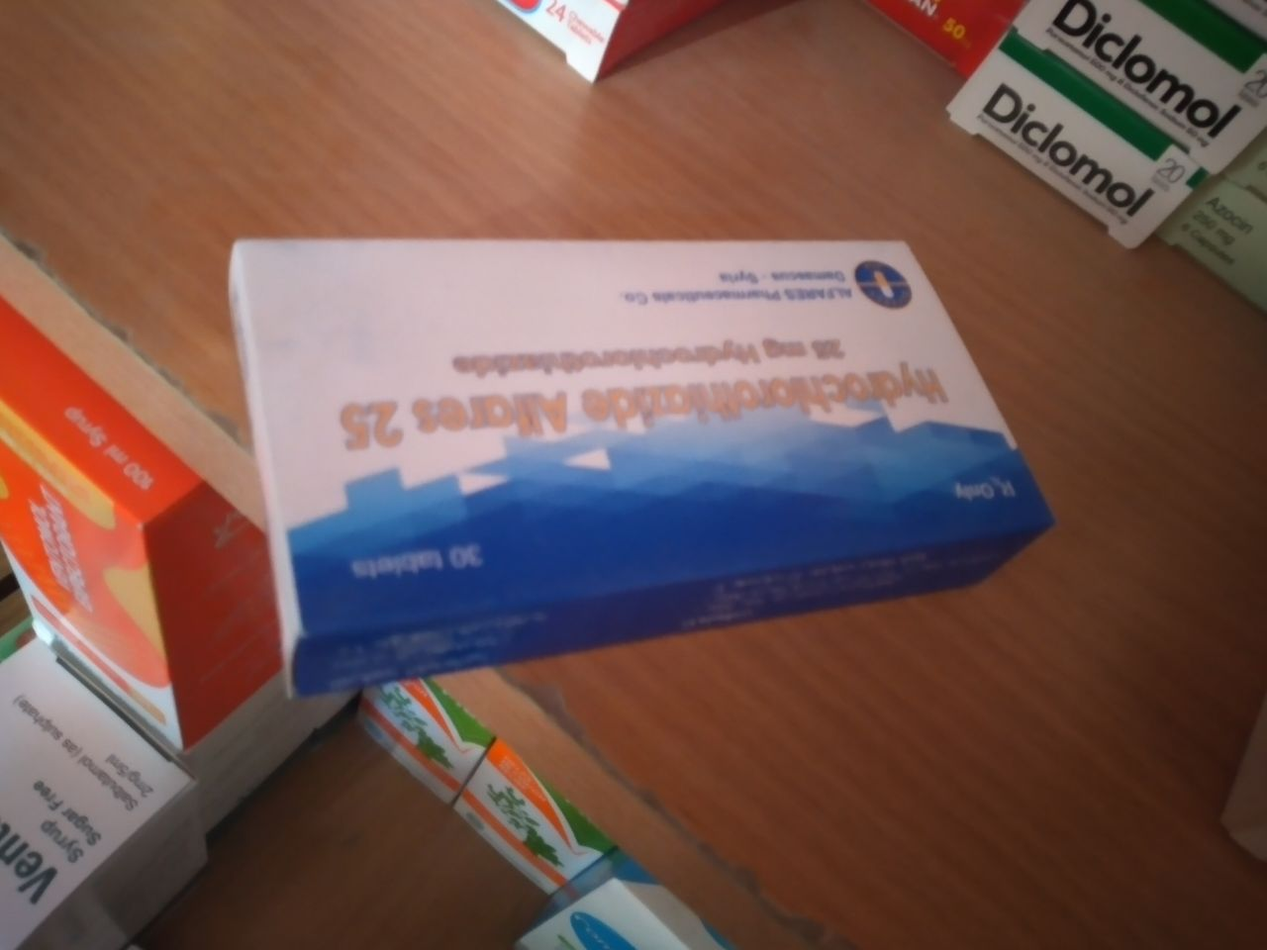Medicine: (225, 215, 1052, 695)
